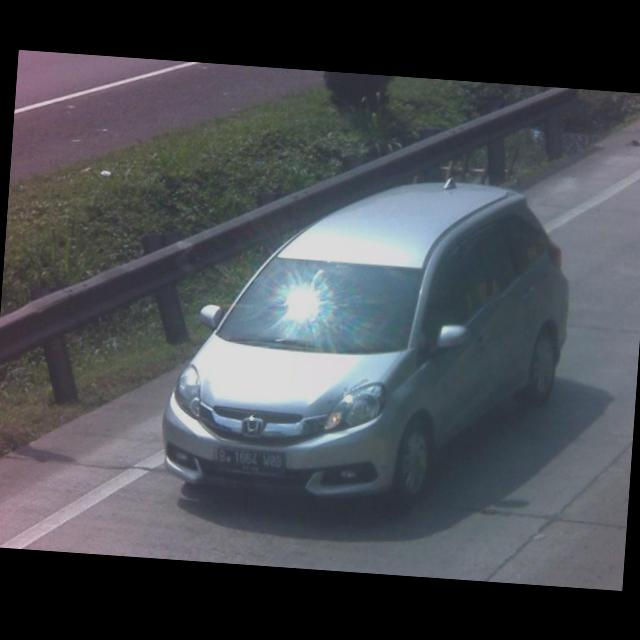plate: (212, 447, 285, 476)
